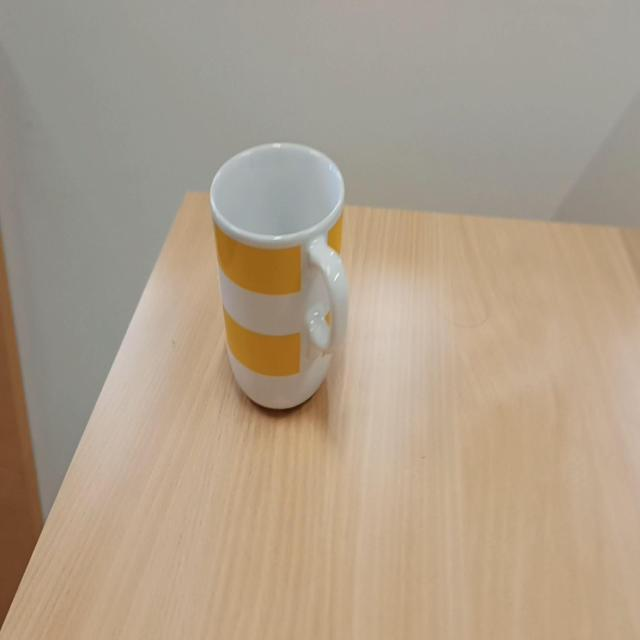cup: (210, 139, 350, 419)
